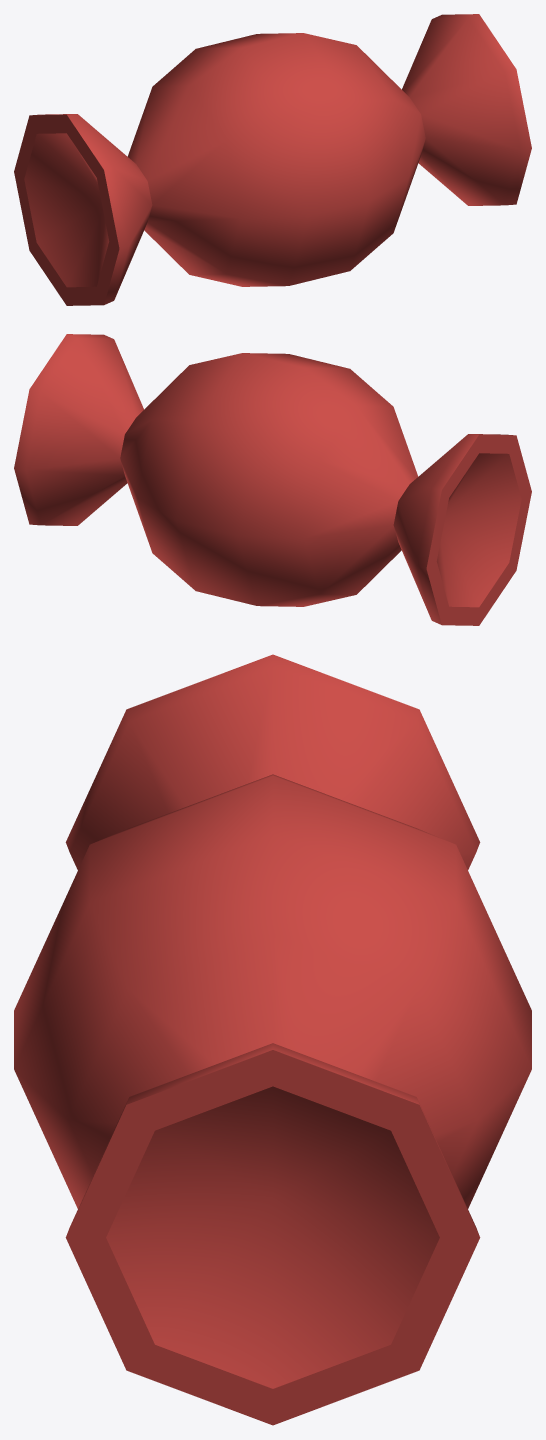
The model's file is Candy_02.fbx.
3 views of the same model, one above another, from view 1: azimuth 30°, elevation 25°; view 2: azimuth 150°, elevation 25°; view 3: azimuth 270°, elevation 25° (orthographic). The views are drawn at different scales.
Parts seen in each view (by area): view 1: Candy_02; view 2: Candy_02; view 3: Candy_02.
Boxes of the visible parts, x1,y1,x2,y2 form: Candy_02: [14, 14, 531, 305]; Candy_02: [14, 334, 531, 625]; Candy_02: [14, 654, 531, 1425].
Size of the model in its own units: 0.0824 by 0.0456 by 0.0456.
